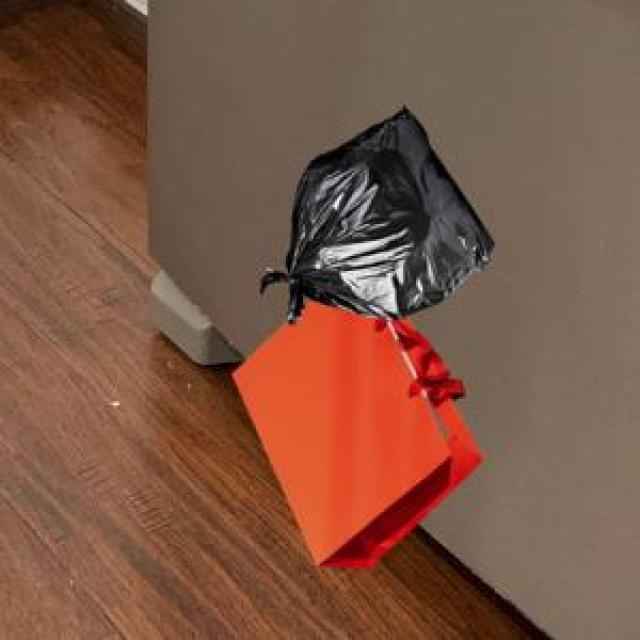miscellaneous trash: (256, 102, 489, 320)
paper: (228, 297, 478, 563)
